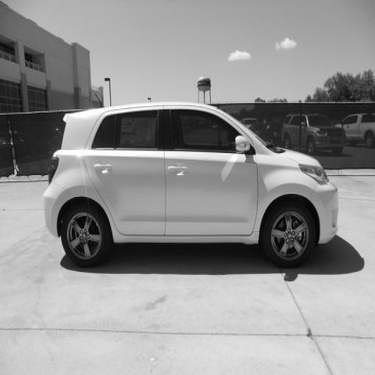car: (36, 96, 344, 274), (278, 102, 348, 160), (331, 105, 372, 155), (230, 109, 280, 150), (3, 118, 34, 169)
